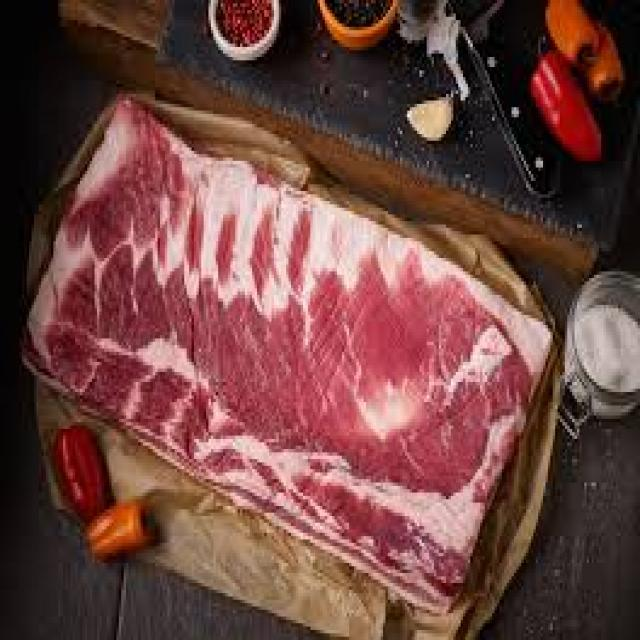pork: (27, 101, 553, 612)
